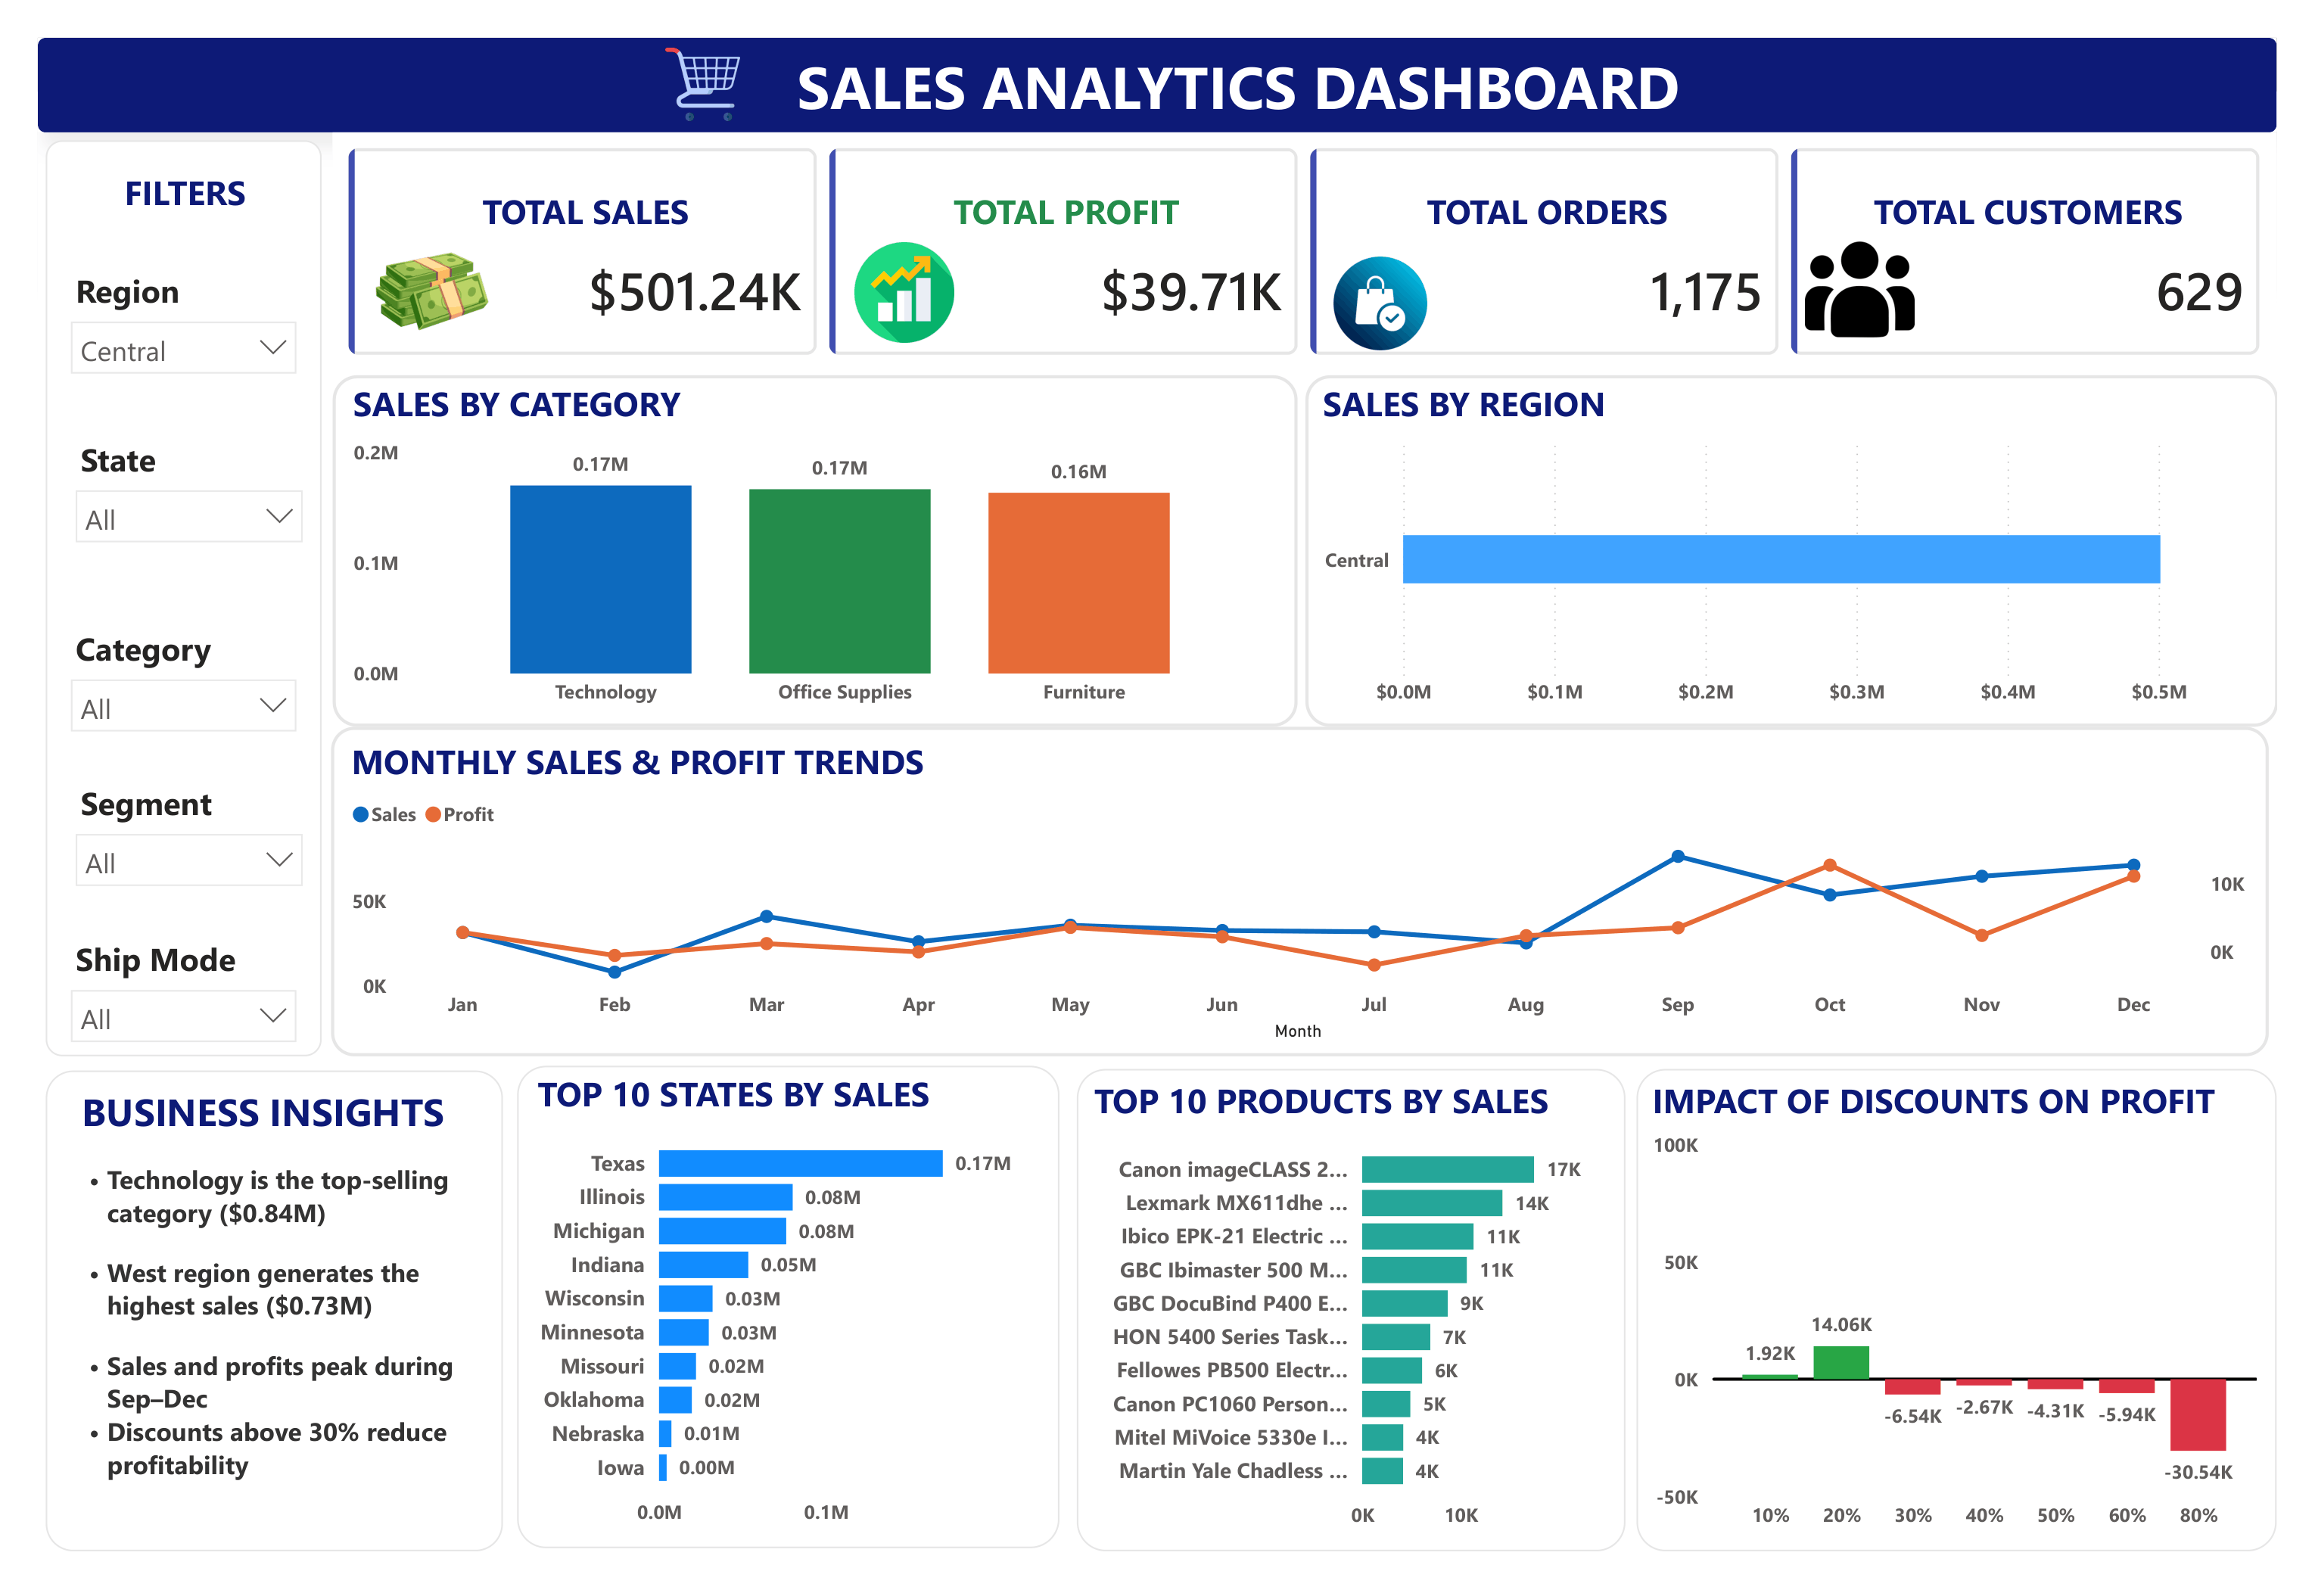

This screenshot's page, from the dashboard's own definition file:
{"tool":"powerbi","page":{"name":"Page 1","canvas":[1420,964],"ordinal":0},"visuals":[{"type":"shape","box":[0,0,1420.1,60.3],"z":0},{"type":"textbox","box":[447.7,0,627.1,60.3],"z":1000},{"type":"image","box":[395,6,52.8,46.7],"z":2000},{"type":"group","id":"g1","title":"Group 1","box":[186.9,60.3,1233.2,150.8],"z":3000},{"type":"shape","box":[803.5,214.1,616.6,223.1],"z":3000,"group":"g7"},{"type":"cardVisual","fields":{"Data":["sales_analytics superstore_staging.TOTAL SALES","sales_analytics superstore_staging.TOTAL PROFIT","sales_analytics superstore_staging.Orders Display","sales_analytics superstore_staging.TOTAL CUSTOMERS"]},"box":[186.9,60.3,1232.6,151.2],"z":4000,"group":"g1"},{"type":"shape","box":[186.9,214.1,612.1,223.1],"z":4000,"group":"g6"},{"type":"group","id":"g2","title":"Group 2","box":[1014.3,654,405.7,305.8],"z":4000},{"type":"image","box":[505.9,130.3,86.4,63.3],"z":5000,"group":"g1"},{"type":"group","id":"g3","title":"Group 3","box":[658.5,654,348.2,305.8],"z":5000},{"type":"image","box":[814.7,137.1,72,63.3],"z":6000,"group":"g1"},{"type":"clusteredColumnChart","title":"SALES BY CATEGORY","fields":{"Y":["Sum(sales_analytics superstore_staging.Sales)"],"Category":["sales_analytics superstore_staging.Category"]},"box":[194.4,217.1,595.5,215.6],"z":6000,"group":"g6"},{"type":"group","id":"g4","title":"Group 4","box":[304.3,652.5,343.6,305.8],"z":6000},{"type":"image","box":[1113,125.5,85.1,68.5],"z":7000,"group":"g1"},{"type":"clusteredBarChart","title":"SALES BY REGION","fields":{"Category":["sales_analytics superstore_staging.Region"],"Y":["Sum(sales_analytics superstore_staging.Sales)"]},"box":[809.5,217.1,606,215.6],"z":7000,"group":"g7"},{"type":"group","id":"g5","title":"Group 5","box":[186.2,437.5,1229.2,208.9],"z":7000},{"type":"image","box":[202.3,119.1,95.5,84],"z":8000,"group":"g1"},{"type":"group","id":"g6","title":"Group 6","box":[186.9,214.1,612.1,223.1],"z":8000},{"type":"shape","box":[186.2,437.5,1229.2,208.9],"z":8000,"group":"g5"},{"type":"group","id":"g7","title":"Group 7","box":[803.5,214.1,616.6,223.1],"z":9000},{"type":"lineChart","title":"MONTHLY SALES & PROFIT TRENDS","fields":{"Category":["sales_analytics superstore_staging.Month"],"Y":["sales_analytics superstore_staging.SALES VALUE"],"Y2":["sales_analytics superstore_staging.PROFIT VALUE"]},"box":[193.7,444.4,1211.1,196.8],"z":9000,"group":"g5"},{"type":"shape","box":[4.5,65.1,175.6,581.3],"z":10000},{"type":"shape","box":[304.3,652.5,343.6,305.8],"z":10000,"group":"g4"},{"type":"shape","box":[658.5,654,348.2,305.8],"z":11000,"group":"g3"},{"type":"shape","box":[4.5,655.5,290.7,304.3],"z":11000},{"type":"textbox","box":[14.4,78.4,158.5,51.2],"z":12000},{"type":"shape","box":[1014.3,654,405.7,305.8],"z":12000,"group":"g2"},{"type":"slicer","fields":{"Values":["sales_analytics superstore_staging.Region"]},"box":[11.2,140.8,163.3,76.8],"z":13000},{"type":"clusteredBarChart","title":"TOP 10 STATES BY SALES","fields":{"Category":["sales_analytics superstore_staging.State"],"Y":["Sum(sales_analytics superstore_staging.Sales)"]},"box":[312,655.5,325.9,298.2],"z":13000,"group":"g4"},{"type":"clusteredBarChart","title":"TOP 10 PRODUCTS BY SALES","fields":{"Y":["Sum(sales_analytics superstore_staging.Sales)"],"Category":["sales_analytics superstore_staging.Product_Name"]},"box":[665,658.5,330,296.7],"z":13002,"group":"g3"},{"type":"clusteredColumnChart","title":"IMPACT OF DISCOUNTS ON PROFIT","fields":{"Y":["Sum(sales_analytics superstore_staging.Profit)"],"Category":["sales_analytics superstore_staging.Discount Label"]},"box":[1018.8,658.5,393,296.7],"z":13003,"group":"g2"},{"type":"slicer","fields":{"Values":["sales_analytics superstore_staging.State"]},"box":[14.4,248.1,163.3,76.8],"z":14000},{"type":"slicer","fields":{"Values":["sales_analytics superstore_staging.Category"]},"box":[11.2,368.1,163.3,76.8],"z":15000},{"type":"slicer","fields":{"Values":["sales_analytics superstore_staging.Segment"]},"box":[14.4,465.8,163.3,76.8],"z":16000},{"type":"slicer","fields":{"Values":["sales_analytics superstore_staging.Ship_Mode"]},"box":[11.2,565,163.3,76.8],"z":17000},{"type":"textbox","box":[22.7,658.5,254.3,50],"z":18000},{"type":"textbox","box":[15.1,708.5,272.5,245.2],"z":19000}]}

Visuals, with their boxes on the page's 1420x964 design canvas (x1, y1, x2, y2). These are canvas units, not pixel positions in the 2315x1596 screenshot, which may show the page scaled, cropped or inside an application window:
shape: box=[0, 0, 1420, 60]
textbox: box=[448, 0, 1075, 60]
image: box=[395, 6, 448, 53]
"Group 1" group: box=[187, 60, 1420, 211]
shape: box=[804, 214, 1420, 437]
cardVisual - sales_analytics superstore_staging.TOTAL SALES x sales_analytics superstore_staging.TOTAL PROFIT: box=[187, 60, 1420, 212]
shape: box=[187, 214, 799, 437]
"Group 2" group: box=[1014, 654, 1420, 960]
image: box=[506, 130, 592, 194]
"Group 3" group: box=[658, 654, 1007, 960]
image: box=[815, 137, 887, 200]
"SALES BY CATEGORY" clusteredColumnChart: box=[194, 217, 790, 433]
"Group 4" group: box=[304, 652, 648, 958]
image: box=[1113, 126, 1198, 194]
"SALES BY REGION" clusteredBarChart: box=[810, 217, 1416, 433]
"Group 5" group: box=[186, 438, 1415, 646]
image: box=[202, 119, 298, 203]
"Group 6" group: box=[187, 214, 799, 437]
shape: box=[186, 438, 1415, 646]
"Group 7" group: box=[804, 214, 1420, 437]
"MONTHLY SALES & PROFIT TRENDS" lineChart: box=[194, 444, 1405, 641]
shape: box=[4, 65, 180, 646]
shape: box=[304, 652, 648, 958]
shape: box=[658, 654, 1007, 960]
shape: box=[4, 656, 295, 960]
textbox: box=[14, 78, 173, 130]
shape: box=[1014, 654, 1420, 960]
slicer - sales_analytics superstore_staging.Region: box=[11, 141, 174, 218]
"TOP 10 STATES BY SALES" clusteredBarChart: box=[312, 656, 638, 954]
"TOP 10 PRODUCTS BY SALES" clusteredBarChart: box=[665, 658, 995, 955]
"IMPACT OF DISCOUNTS ON PROFIT" clusteredColumnChart: box=[1019, 658, 1412, 955]
slicer - sales_analytics superstore_staging.State: box=[14, 248, 178, 325]
slicer - sales_analytics superstore_staging.Category: box=[11, 368, 174, 445]
slicer - sales_analytics superstore_staging.Segment: box=[14, 466, 178, 543]
slicer - sales_analytics superstore_staging.Ship_Mode: box=[11, 565, 174, 642]
textbox: box=[23, 658, 277, 708]
textbox: box=[15, 708, 288, 954]
